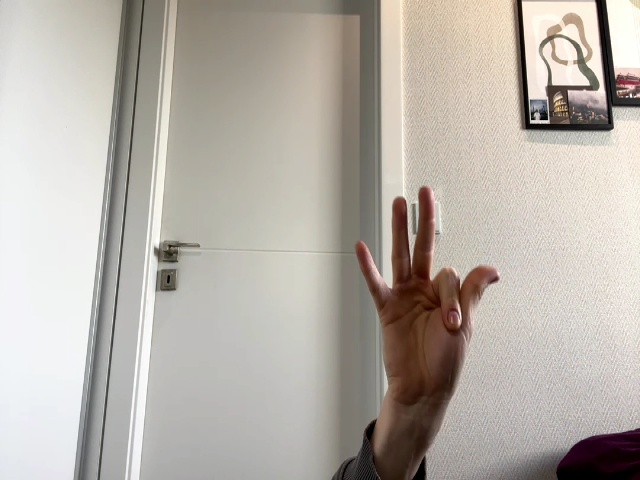F: (356, 187, 500, 394)
